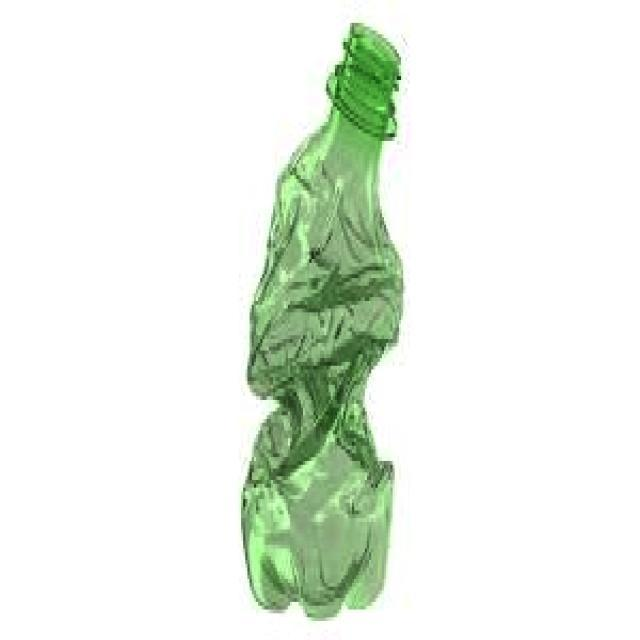BIODEGRADABLE: (232, 13, 412, 618)
